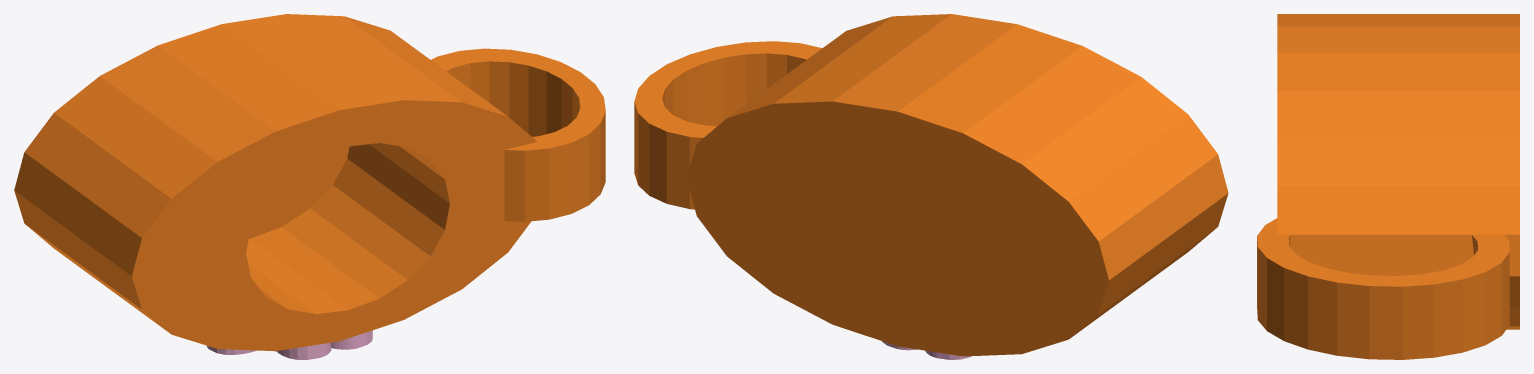
File: tinker.obj
3 renders of one model, left to right at view 1: azimuth 30°, elevation 25°; view 2: azimuth 150°, elevation 25°; view 3: azimuth 270°, elevation 25°, orthographic. The views are drawn at different scales.
Parts seen in each view (by area): view 1: group_0_16089887, group_0_15708628; view 2: group_0_16089887; view 3: group_0_16089887.
Boxes of the visible parts, x1=… form: group_0_16089887: x1=14, y1=14, x2=605, y2=351; group_0_15708628: x1=207, y1=330, x2=372, y2=359; group_0_16089887: x1=634, y1=14, x2=1228, y2=356; group_0_16089887: x1=1257, y1=14, x2=1519, y2=359.
Size of the model in its own units: 60 by 28 by 26.
